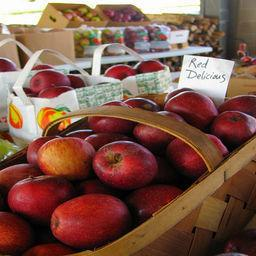apple: (51, 193, 131, 246), (8, 175, 76, 218), (94, 140, 157, 185), (37, 135, 94, 180), (210, 110, 255, 147), (216, 94, 256, 117)
